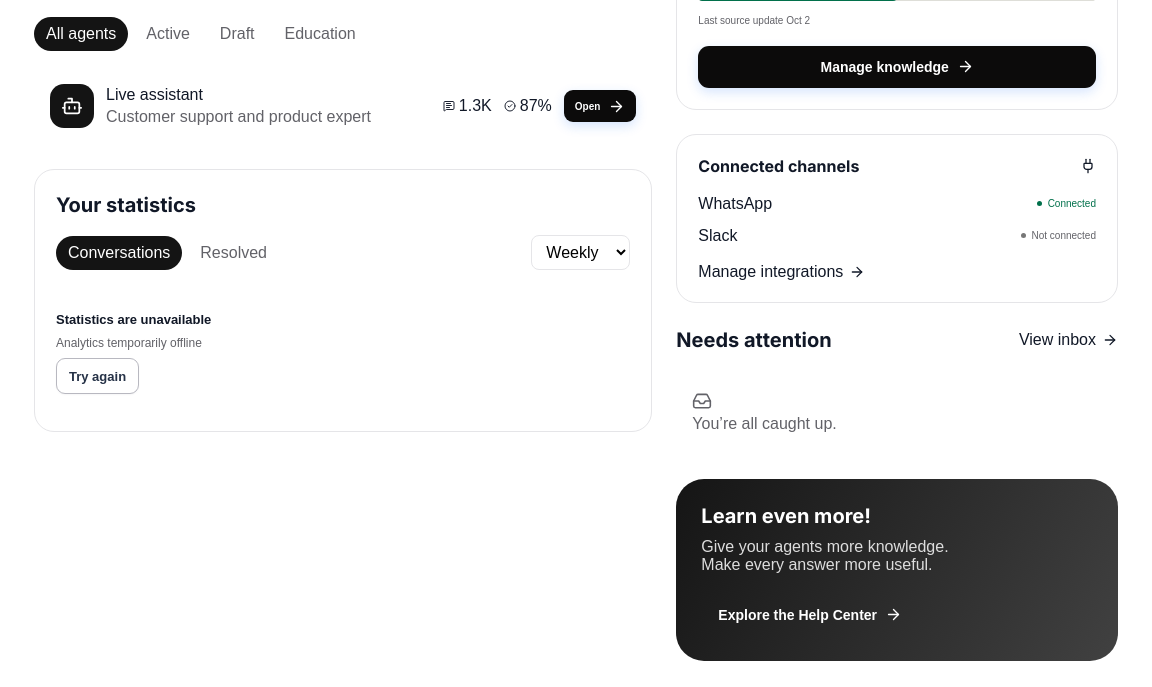
Scenario: SaaS Bot overview API fidelity › reports failures and retries rather than showing design sample data
(page scrolled)
Expected: the text "Analytics temporarily offline" is shown, [56,336,202,350]
Click the button "Try again" at (98, 376), box [56,358,139,394]
(page scrolled)
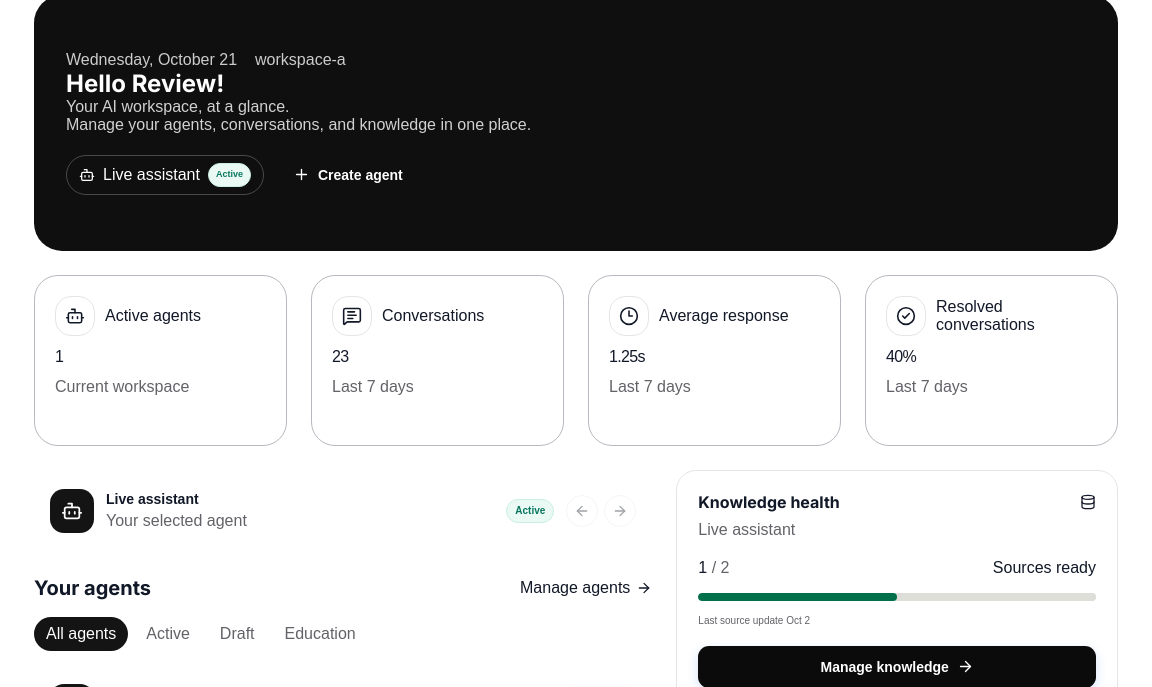
Expected: the text "23" is shown, [332,348,348,365]
